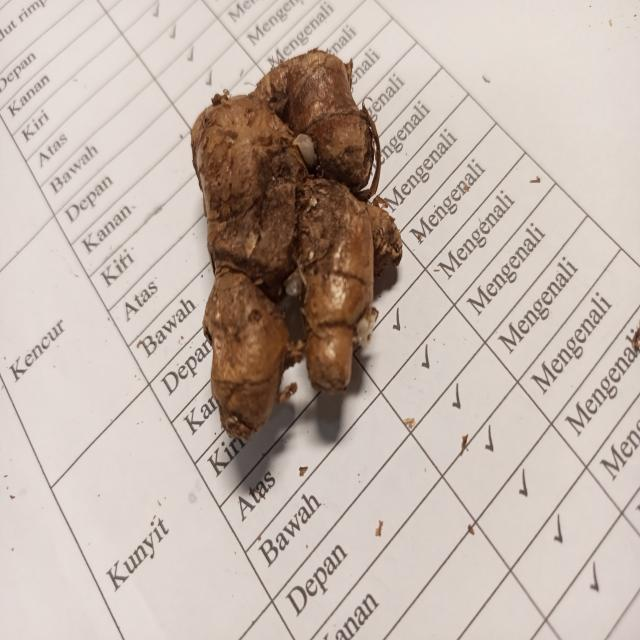ginger: (203, 41, 394, 411)
